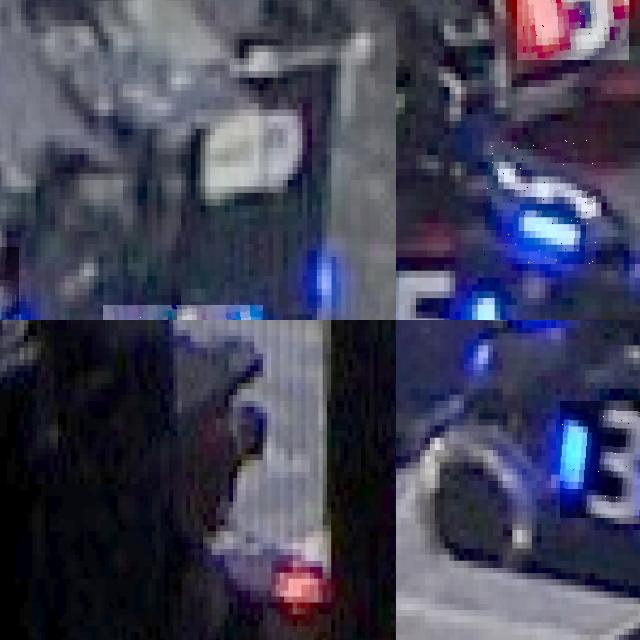B3: (560, 401, 640, 518)
B5: (483, 135, 596, 264), (396, 270, 511, 320)
R5: (516, 0, 629, 59)
